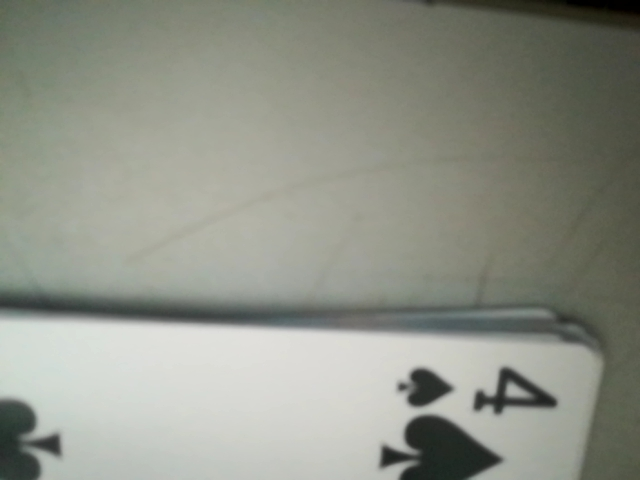ht 4: (388, 352, 569, 421)
